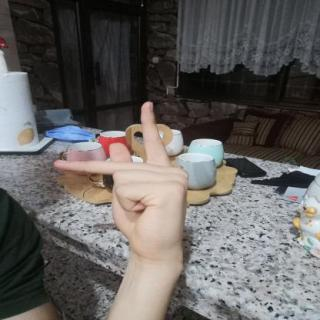DHAA: (41, 97, 196, 265)
